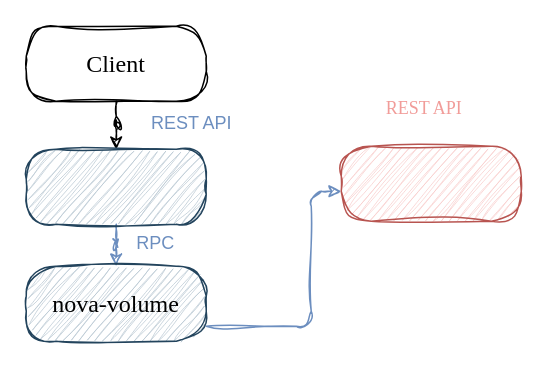
Image size: 548x368. Some labels were removed from this diagram. The shapes that lost their labels are listed below. From the top down, each one's centre as x and y in pixels, then its label:
At [115,186]: "nova-api".
At [430,183]: "cinder-api".
